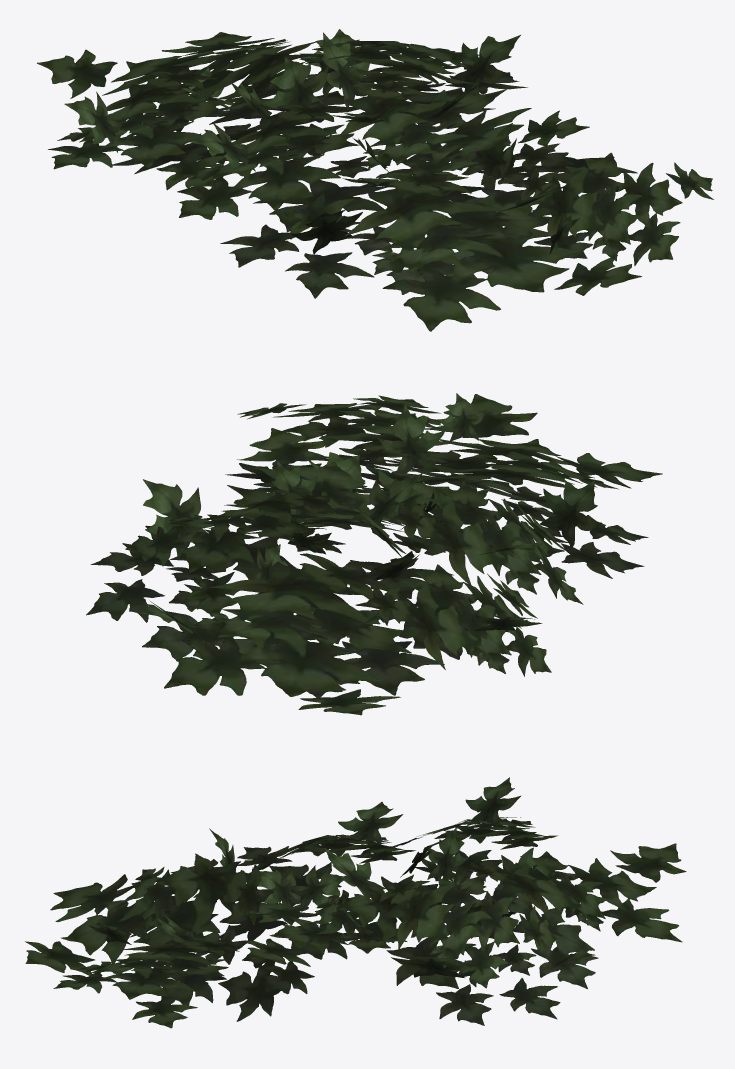
3 renders of one model, top to bottom at view 1: azimuth 30°, elevation 25°; view 2: azimuth 150°, elevation 25°; view 3: azimuth 270°, elevation 25°, orthographic. The views are drawn at different scales.
Visible parts, largest first — view 1: body0_model0_lod0_mesh0; view 2: body0_model0_lod0_mesh0; view 3: body0_model0_lod0_mesh0.
Part boxes in pixels (x1,y1,x2,y2): body0_model0_lod0_mesh0: [37, 29, 713, 331]; body0_model0_lod0_mesh0: [86, 393, 662, 715]; body0_model0_lod0_mesh0: [25, 777, 686, 1028].
Size of the model in its own units: 322 by 79.12 by 423.
Materials: 1 (1 with a texture image).
